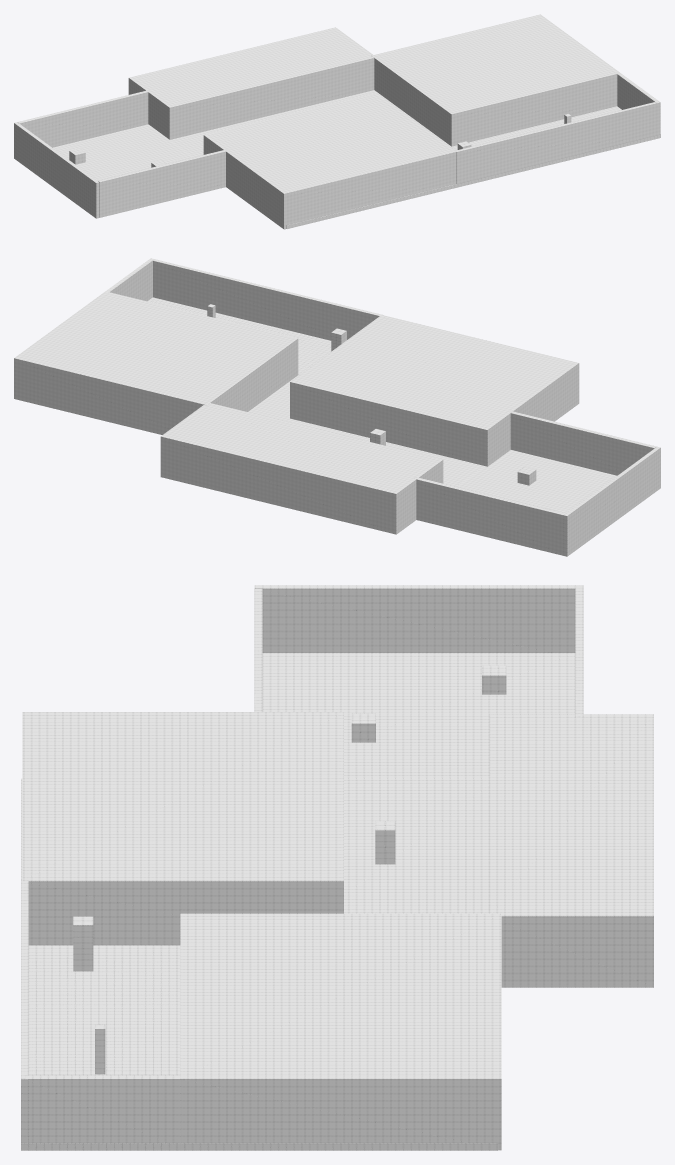
Rendered from StageCol.fbx.
3 renders of one model, top to bottom at view 1: azimuth 30°, elevation 25°; view 2: azimuth 150°, elevation 25°; view 3: azimuth 270°, elevation 25°, orthographic. The views are drawn at different scales.
Visible parts, largest first — view 1: Cube__8_, Cube__5_, Cube__9_, Cube__3_, Cube__11_, Cube__6_, Cube__10_, Cube__12_, Cube__4_, Cube, Cube__7_; view 2: Cube__8_, Cube__5_, Cube__9_, Cube__3_, Cube__10_, Cube__6_, Cube__11_, Cube__12_, Cube__4_, Cube, Cube__7_; view 3: Cube__5_, Cube__8_, Cube__9_, Cube__4_, Cube__6_, Cube__12_, Cube, Cube__7_, Cube__3_, Cube__14_, Cube__10_, Cube__11_ (+1 smaller).
Part boxes in pixels (x1,y1,x2,y2): Cube__8_: (203,93,456,229); Cube__5_: (371,14,620,146); Cube__9_: (128,27,374,139); Cube__3_: (455,101,660,183); Cube__11_: (98,149,230,217); Cube__6_: (53,124,193,180); Cube__10_: (17,90,148,147); Cube__12_: (14,122,99,218); Cube__4_: (170,90,660,228); Cube: (456,106,660,187); Cube__7_: (617,73,658,109); Cube__8_: (290,315,579,466); Cube__5_: (14,291,298,434); Cube__9_: (160,403,443,534); Cube__3_: (150,258,382,340); Cube__10_: (414,477,565,555); Cube__6_: (456,450,616,513); Cube__11_: (509,411,656,475); Cube__12_: (563,446,660,556); Cube__4_: (148,297,483,486); Cube: (147,297,331,375); Cube__7_: (105,259,153,301); Cube__5_: (180,913,501,1150); Cube__8_: (22,712,343,945); Cube__9_: (489,714,653,987); Cube__4_: (21,778,497,1150); Cube__6_: (262,653,575,778); Cube__12_: (254,585,583,652); Cube: (21,952,184,1150); Cube__7_: (25,1075,180,1143); Cube__3_: (21,880,28,1143); Cube__14_: (73,916,93,971); Cube__10_: (575,588,583,717); Cube__11_: (254,589,262,711).
Size of the model in its own units: 14971 by 1009 by 8104.
Materials: 1 (1 with a texture image).
